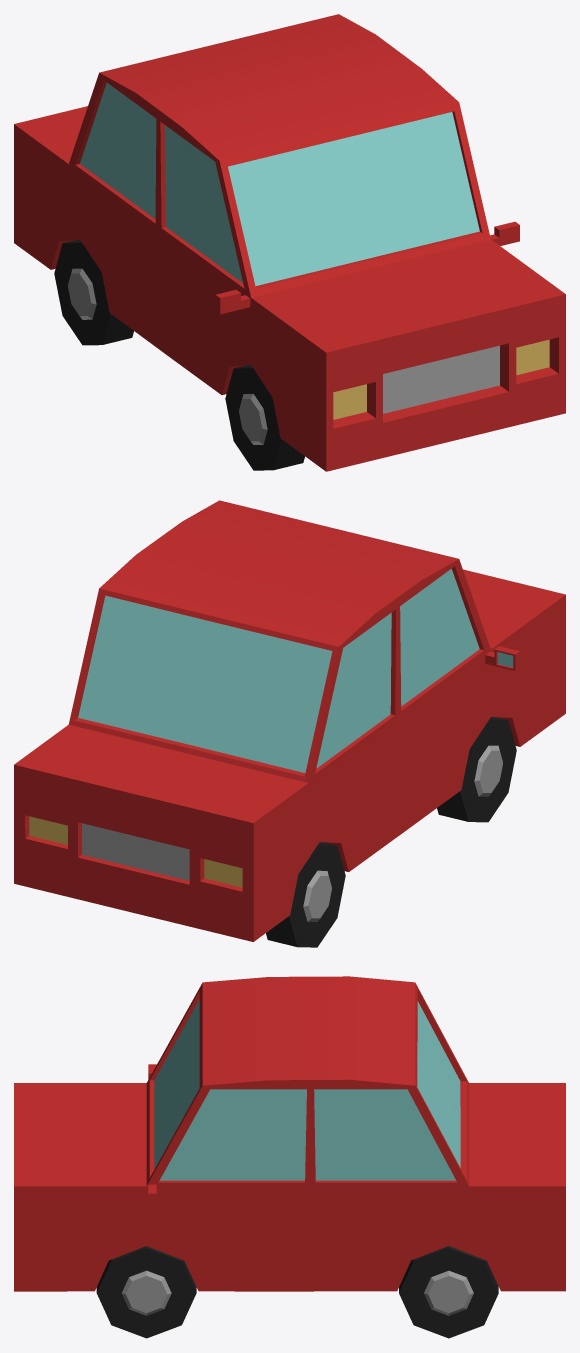
The model's file is Car_Red.fbx.
The picture shows the model from 3 angles, top to bottom: view 1: azimuth 30°, elevation 25°; view 2: azimuth 150°, elevation 25°; view 3: azimuth 270°, elevation 25°; orthographic projection. The views are drawn at different scales.
Parts seen in each view (by area): view 1: pCube7; view 2: pCube7; view 3: pCube7.
Part boxes in pixels (x1,y1,x2,y2): pCube7: [14, 14, 565, 471]; pCube7: [14, 500, 565, 947]; pCube7: [14, 976, 565, 1338].
Bounding box in the file's own units: 165 × 154 × 297.
